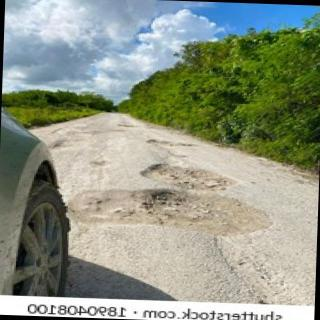pothole: (68, 190, 270, 232), (140, 164, 233, 192), (148, 139, 199, 148)
